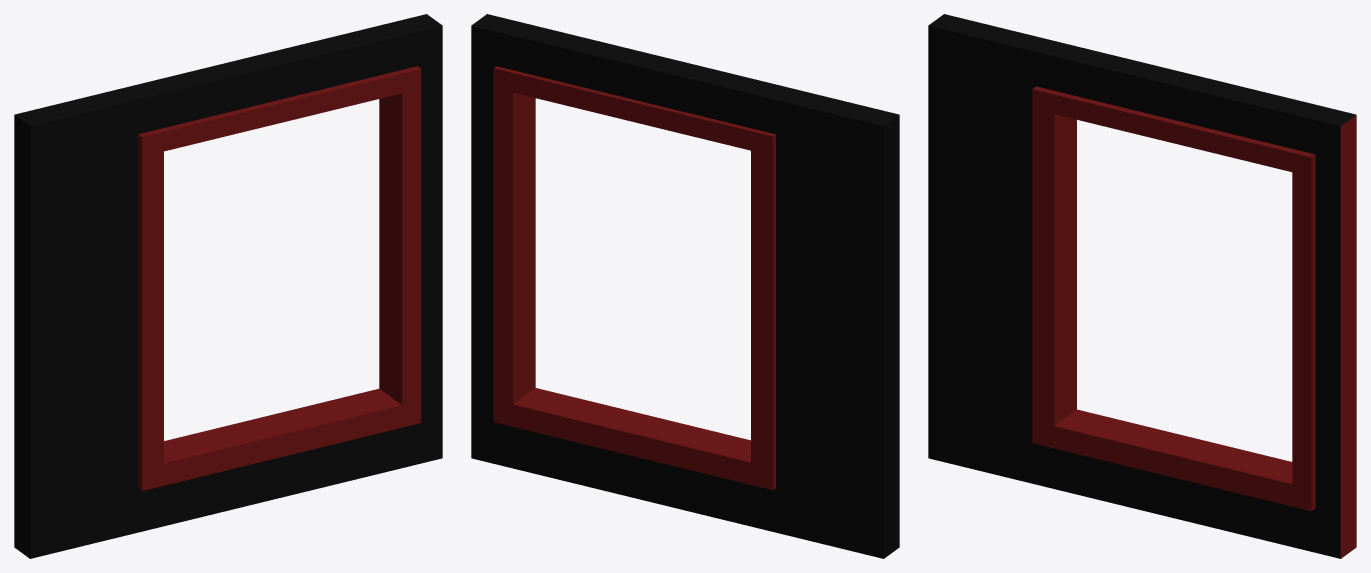
File: Middle W Wall 1 - Right_Left.FBX
3 renders of one model, left to right at view 1: azimuth 30°, elevation 25°; view 2: azimuth 150°, elevation 25°; view 3: azimuth 330°, elevation 25°, orthographic.
Visible parts, largest first — view 1: Box041; view 2: Box041; view 3: Box041.
Boxes of the visible parts, box(x1,y1,x2,y2) form: Box041: box(14, 14, 442, 558); Box041: box(471, 14, 899, 558); Box041: box(928, 14, 1356, 558).
Bounding box in the file's own units: 14.97 × 15 × 1.43.
